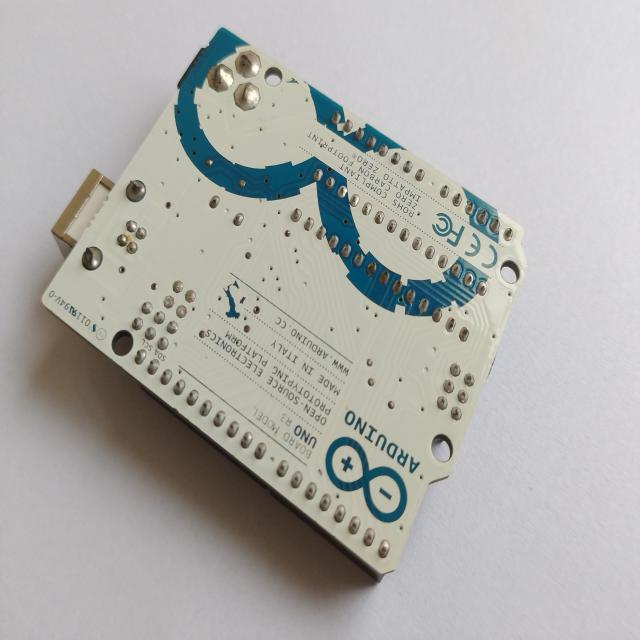arduino: (42, 0, 535, 592)
